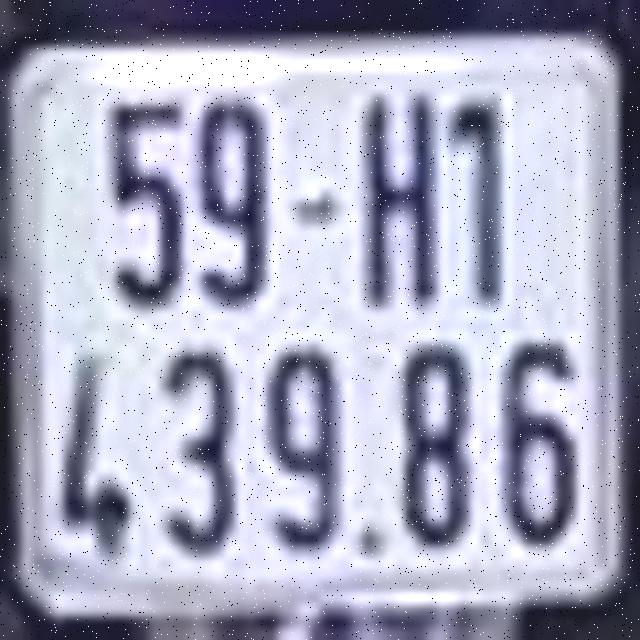1: (451, 99, 509, 304)
3: (160, 348, 236, 556)
4: (60, 352, 133, 559)
5: (107, 99, 186, 306)
6: (504, 336, 580, 547)
8: (403, 344, 470, 547)
9: (198, 101, 267, 307), (268, 349, 338, 550)
H: (364, 92, 440, 311)
